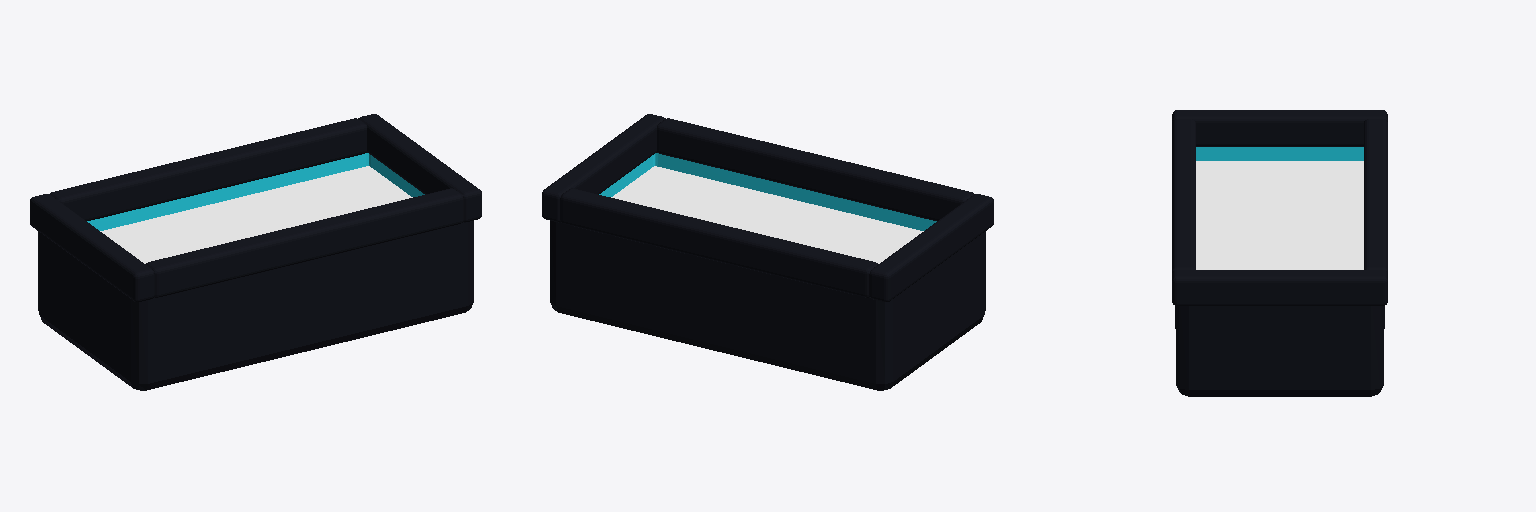
File: SwimmingPool.obj
The picture shows the model from 3 angles: view 1: azimuth 30°, elevation 25°; view 2: azimuth 150°, elevation 25°; view 3: azimuth 270°, elevation 25°; orthographic projection.
Visible parts, largest first — view 1: swimmingpool; view 2: swimmingpool; view 3: swimmingpool.
Part boxes in pixels (x1,y1,x2,y2): swimmingpool: (30,114,481,390); swimmingpool: (542,114,993,390); swimmingpool: (1172,110,1387,396).
Bounding box in the file's own units: 2.09 × 0.7211 × 1.12.